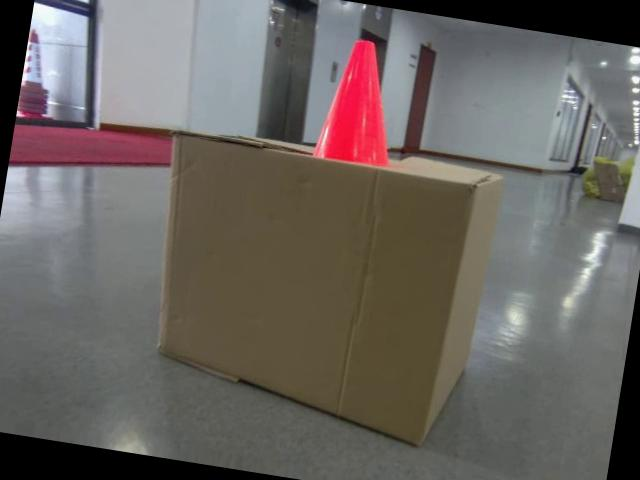orange_barrel: (312, 34, 411, 170)
